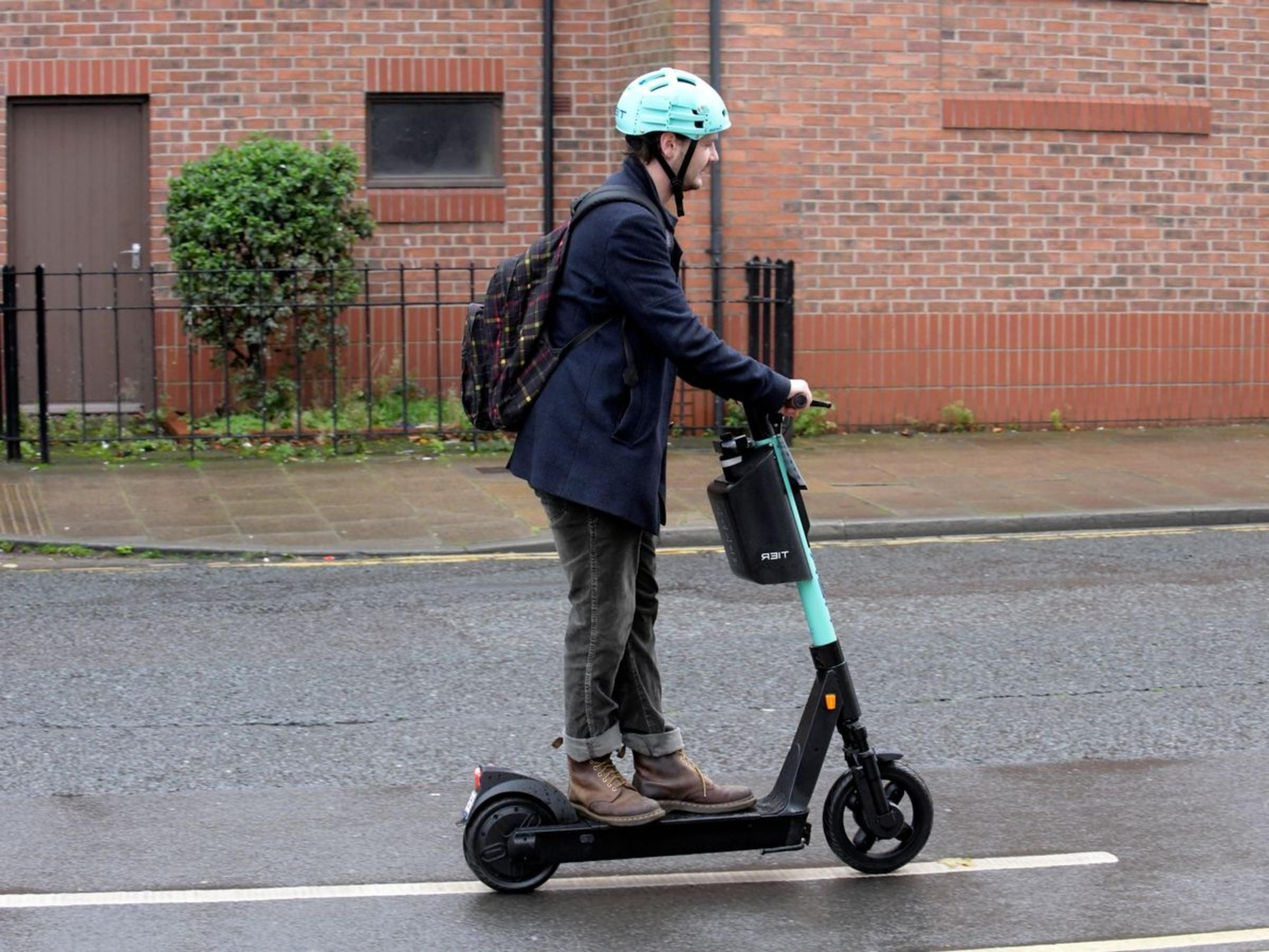helmet: (613, 62, 732, 201)
human: (479, 70, 797, 833)
kickboard: (463, 769, 933, 894)
